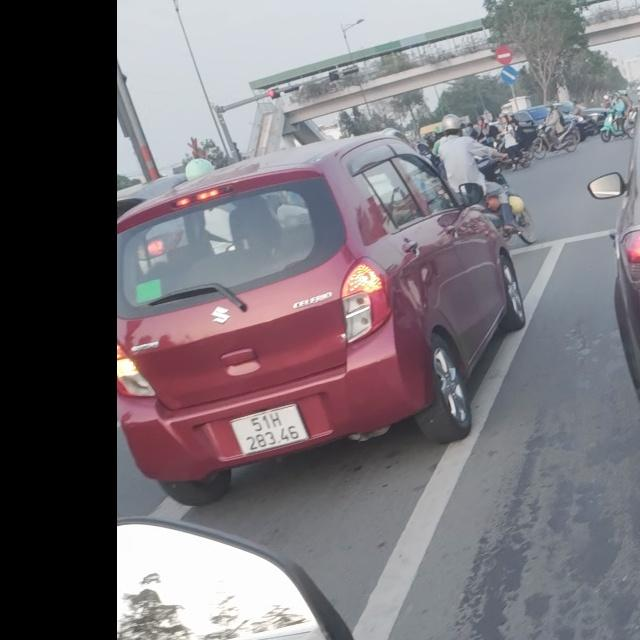license-plate: (230, 404, 308, 455)
